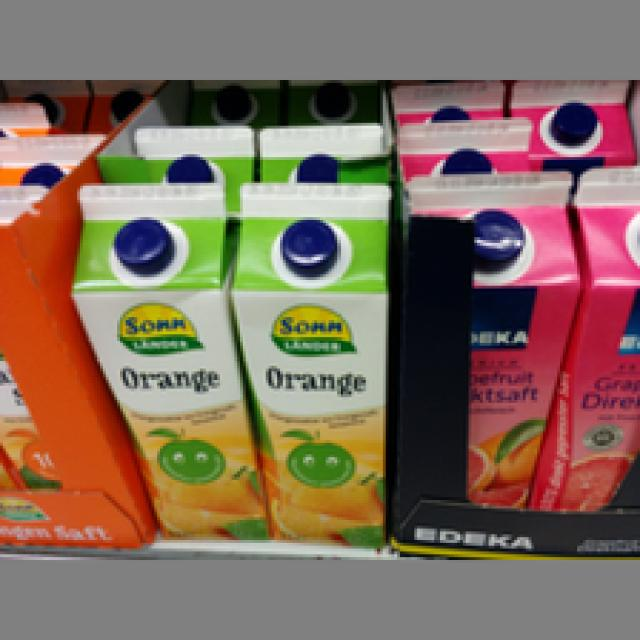groceries: (66, 180, 263, 540), (228, 174, 388, 537), (403, 166, 571, 508)
